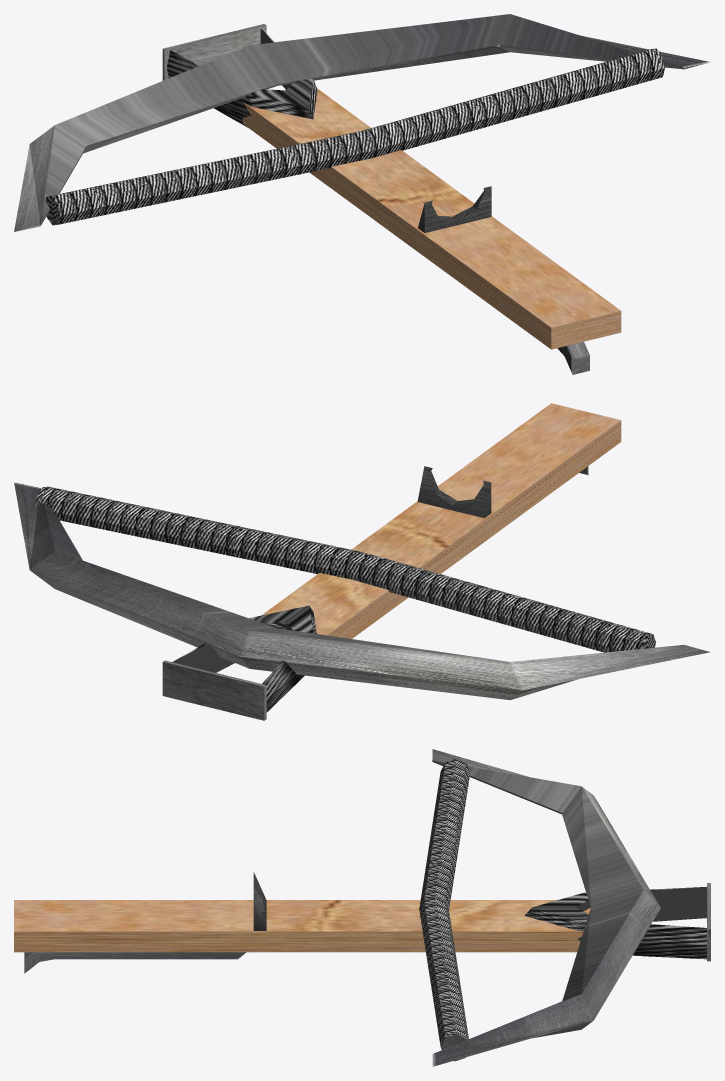
The model's file is Crossbow39.obj.
The picture shows the model from 3 angles, top to bottom: view 1: azimuth 30°, elevation 25°; view 2: azimuth 150°, elevation 25°; view 3: azimuth 270°, elevation 25°; orthographic projection. The views are drawn at different scales.
Visible parts, largest first — view 1: Sphere; view 2: Sphere; view 3: Sphere.
Part boxes in pixels (<box>): Sphere: <box>14,14,710,374</box>; Sphere: <box>14,403,710,720</box>; Sphere: <box>14,749,710,1066</box>.
Size of the model in its own units: 5.04 by 0.6142 by 4.67.
